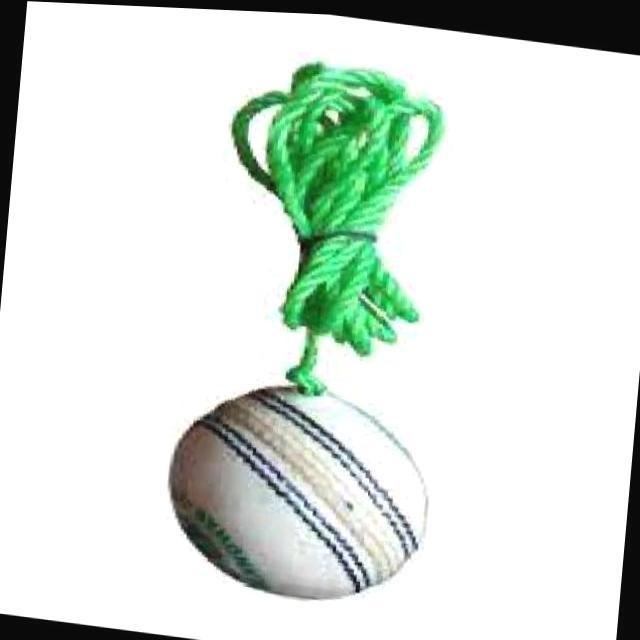-: (172, 350, 461, 597)
